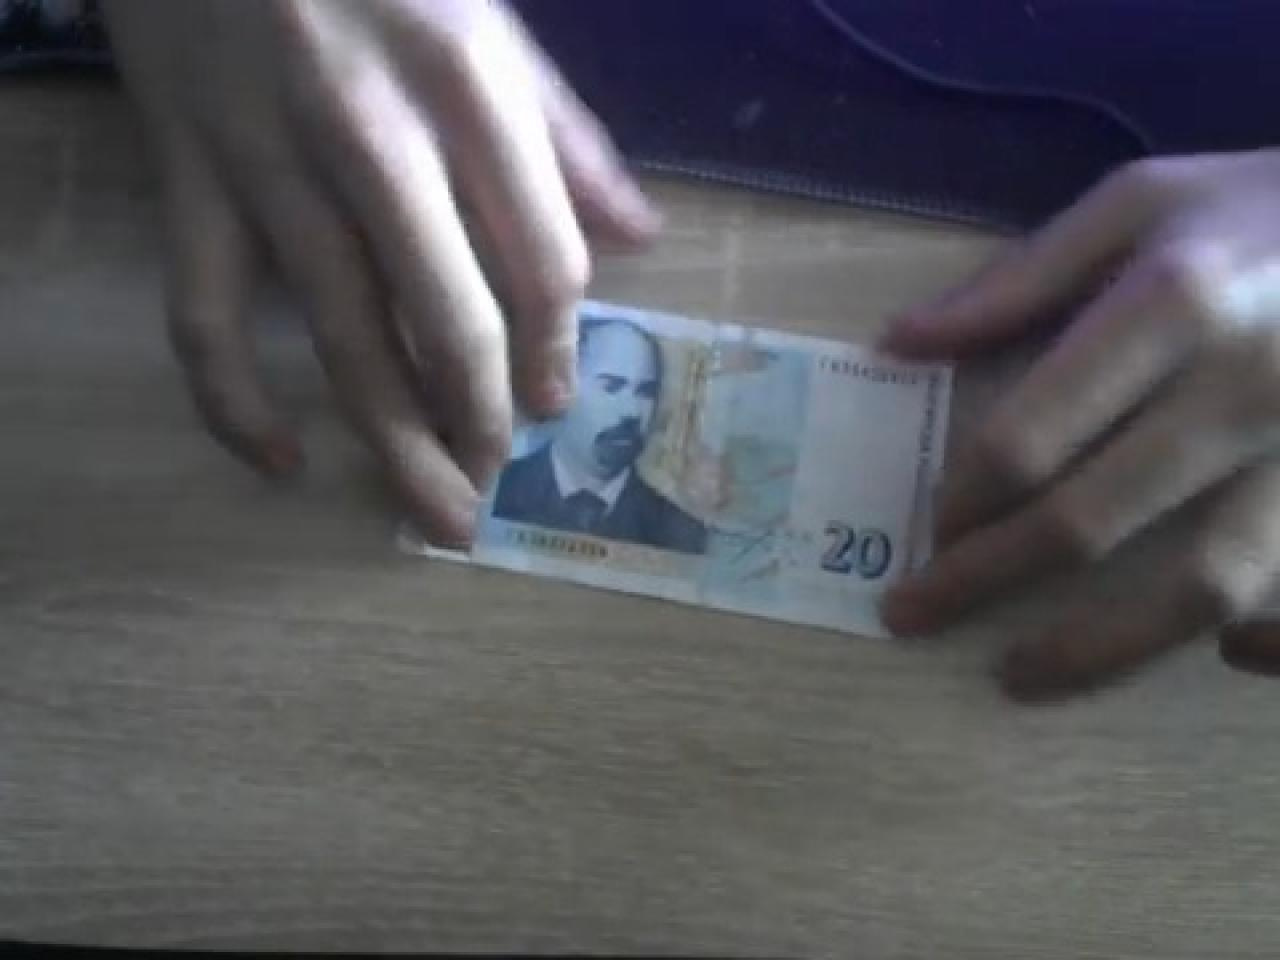20leva: (483, 302, 959, 637)
